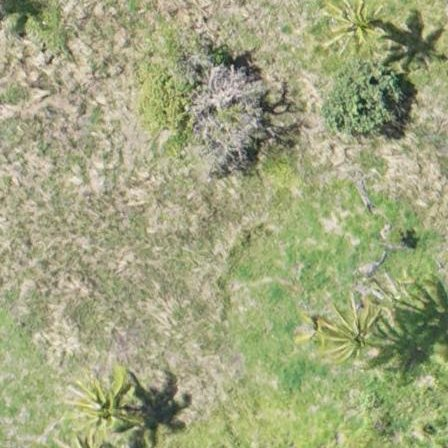palm_tree: (66, 371, 131, 438), (324, 300, 386, 365), (318, 1, 386, 58)
